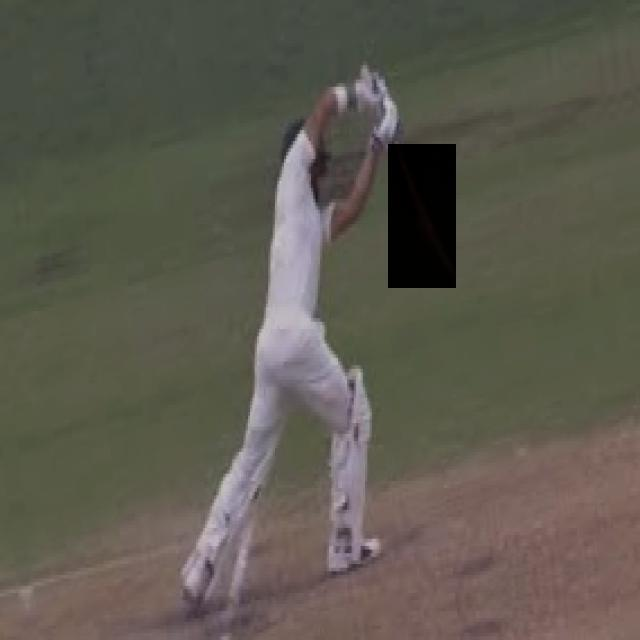bat: (385, 145, 459, 288)
